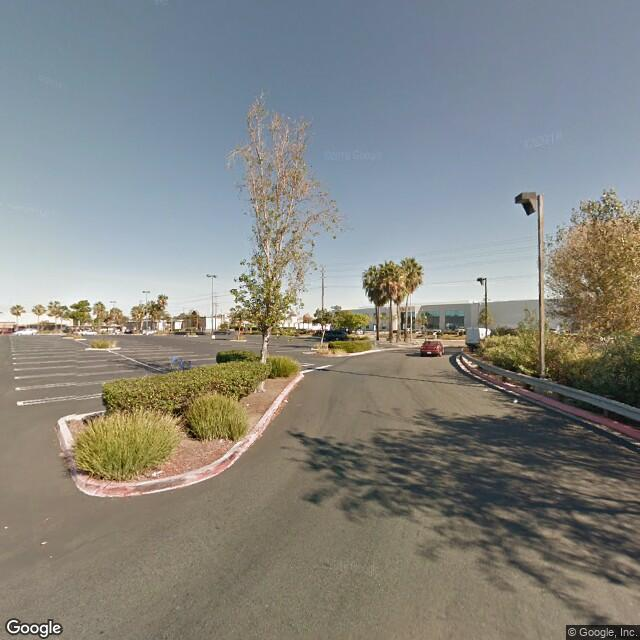litter: (148, 468, 169, 477), (483, 386, 490, 394), (283, 398, 291, 403), (513, 398, 519, 403), (245, 400, 250, 406)
